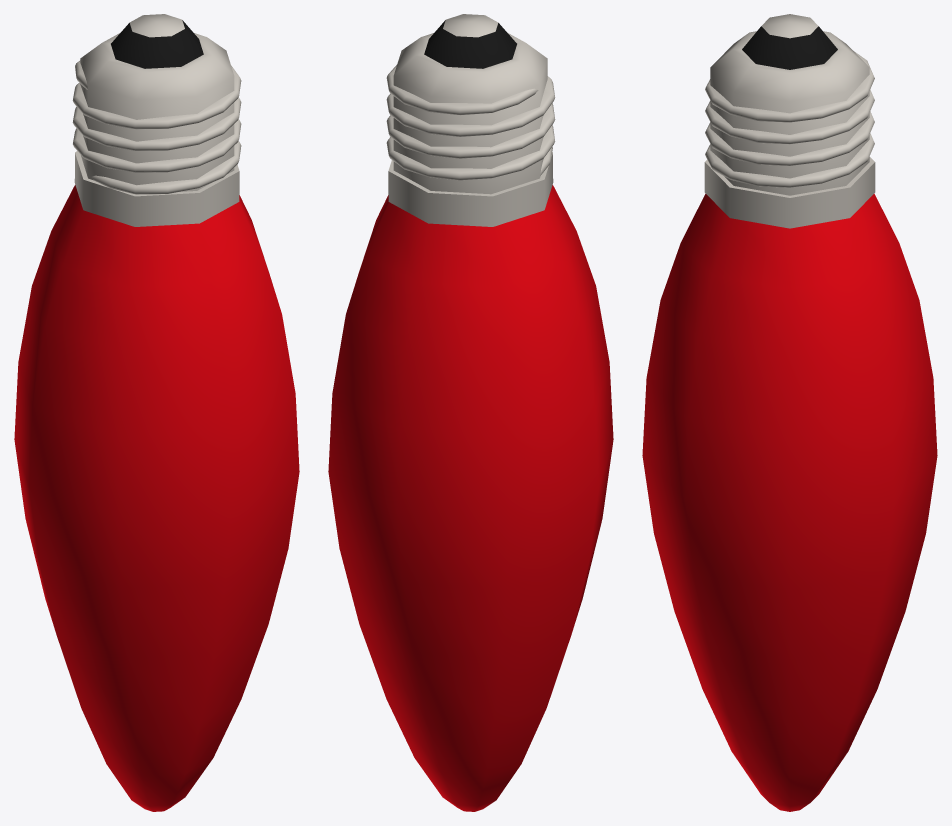
The model's file is Lamp_red.fbx.
3 views of the same model, side by side, from view 1: azimuth 30°, elevation 25°; view 2: azimuth 150°, elevation 25°; view 3: azimuth 270°, elevation 25° (orthographic).
Parts seen in each view (by area): view 1: Cylinder; view 2: Cylinder; view 3: Cylinder.
Boxes of the visible parts, box(x1,y1,x2,y2) form: Cylinder: box(14, 14, 299, 811); Cylinder: box(328, 14, 613, 811); Cylinder: box(642, 14, 937, 811).
Size of the model in its own units: 12.3 by 36.22 by 12.3.
